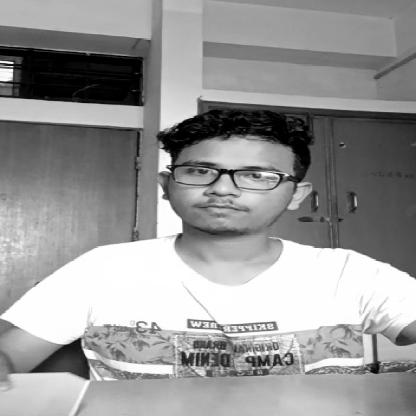Normal: (159, 107, 316, 247)
